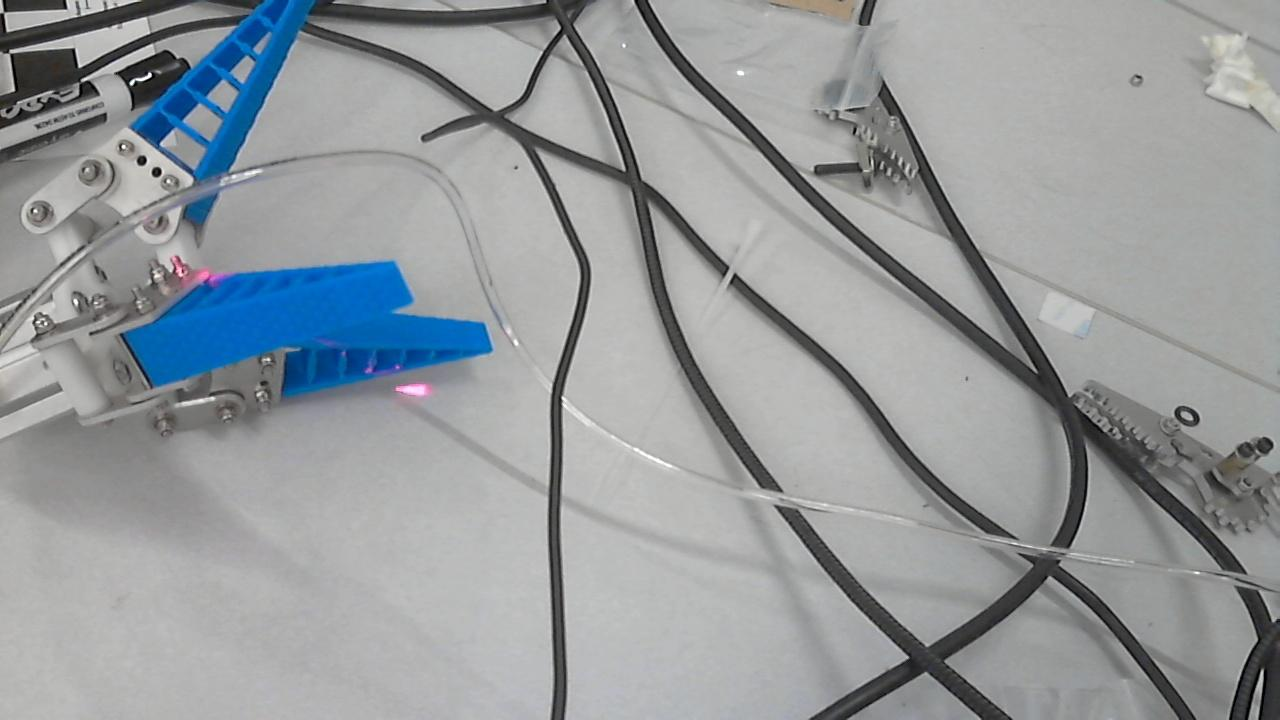Object robotic gripper finger assembly - Material metal - Pdfname Yy6dySnH33wN: (138, 254, 250, 304)
